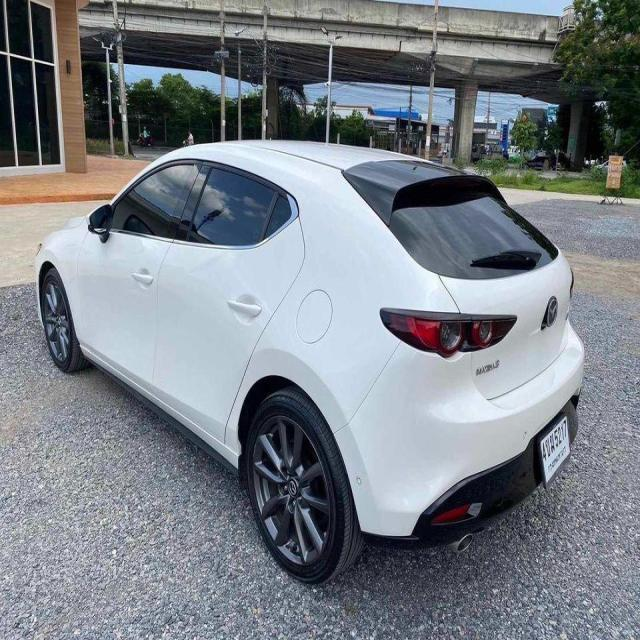Hatchback: (34, 140, 586, 588)
